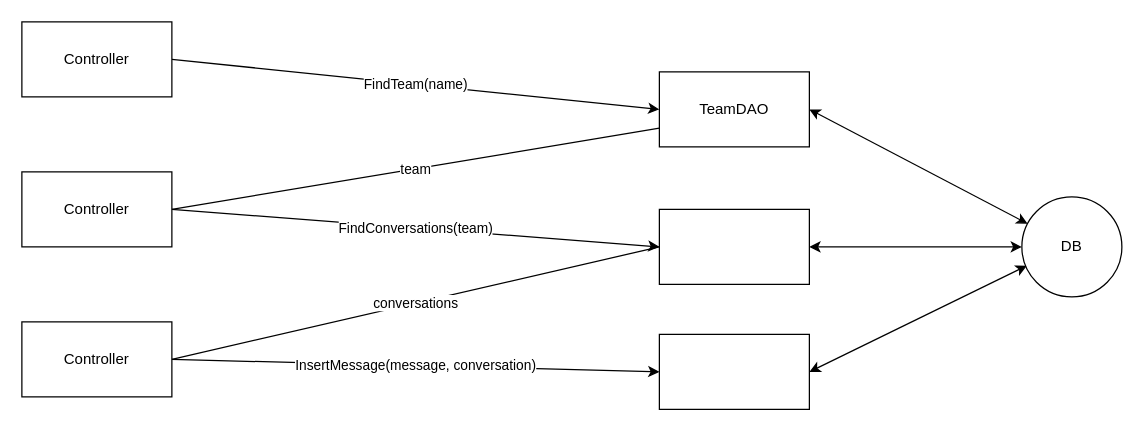
Some shapes in this 1144 by 431 pixel diagram are drawn without their labels. Each missing label, with the box of its shape:
ConversationDAO: (658, 208, 809, 284)
MessageDAO: (658, 333, 809, 409)
